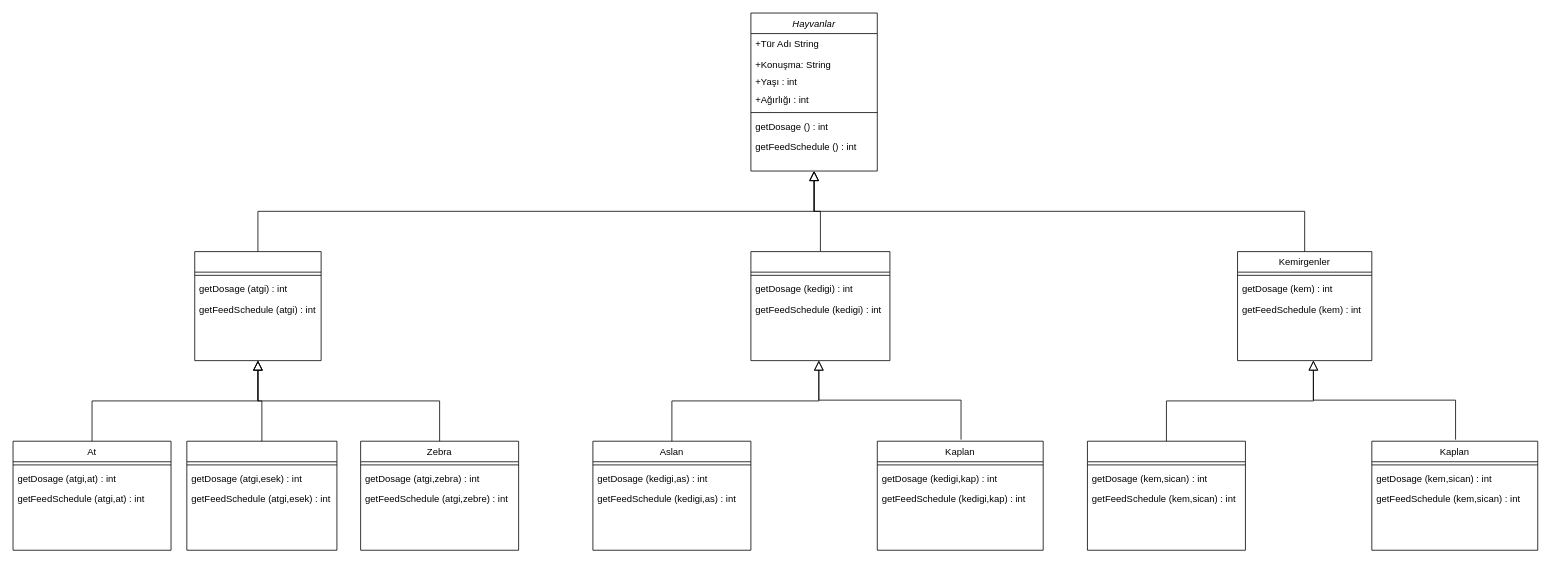
Image size: 1551x563. Some labels were removed from this diagram. Each missing label, with the box of its shape:
Atlar: (194, 251, 321, 361)
Eşek: (186, 440, 337, 550)
Kedigiller: (750, 251, 890, 361)
Sıçan: (1087, 440, 1245, 550)
